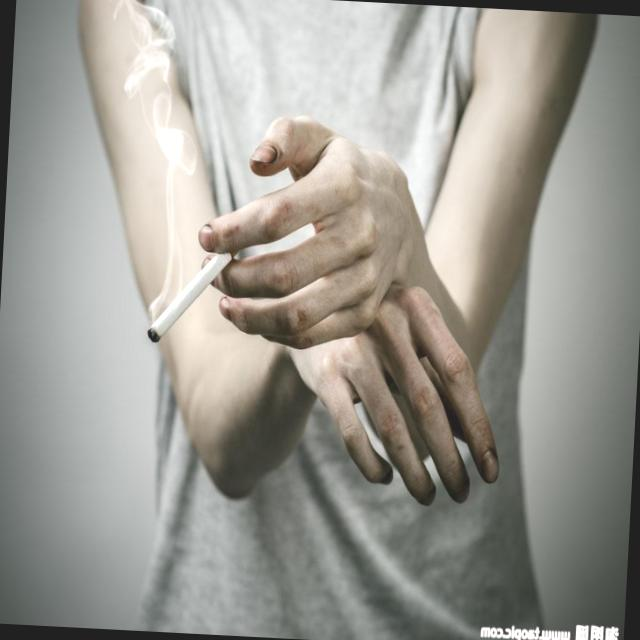cigarette: (144, 227, 240, 356)
